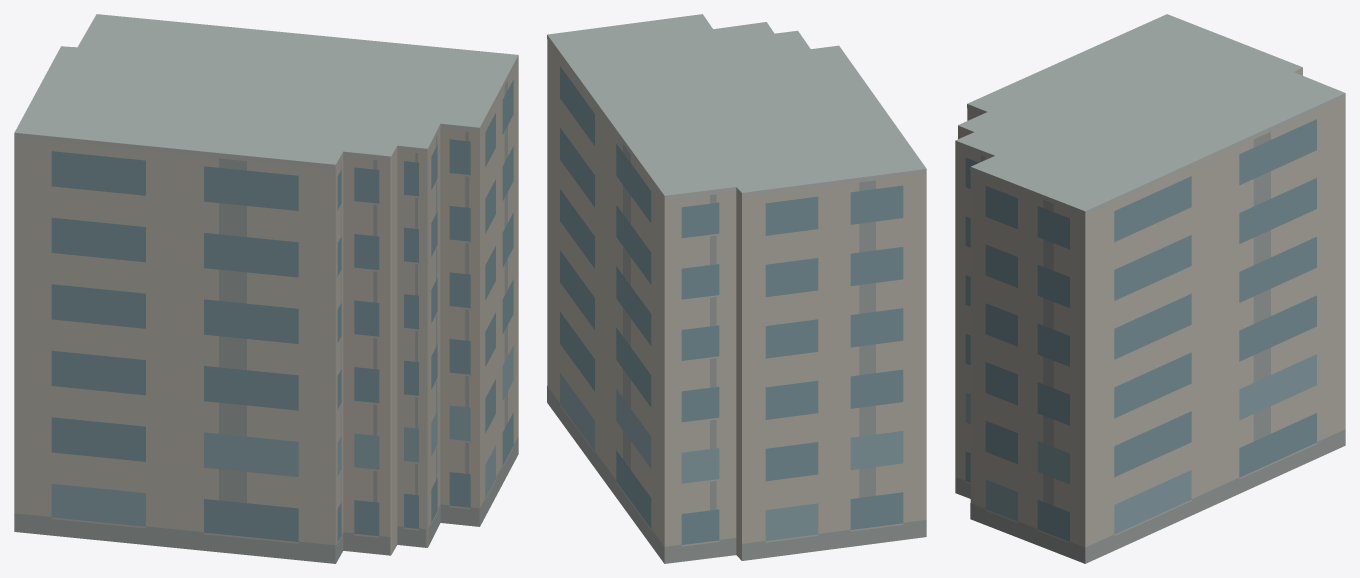
Rendered from survey-upis-32877154.glb.
The picture shows the model from 3 angles, left to right: view 1: azimuth 30°, elevation 25°; view 2: azimuth 150°, elevation 25°; view 3: azimuth 270°, elevation 25°; orthographic projection. The views are drawn at different scales.
Visible parts, largest first — view 1: survey-upis-32877154.tmp; view 2: survey-upis-32877154.tmp; view 3: survey-upis-32877154.tmp.
Part boxes in pixels (x1,y1,x2,y2): survey-upis-32877154.tmp: (14,14,518,563); survey-upis-32877154.tmp: (547,14,926,563); survey-upis-32877154.tmp: (955,14,1345,563).
Size of the model in its own units: 21.98 by 18.3 by 18.37.
